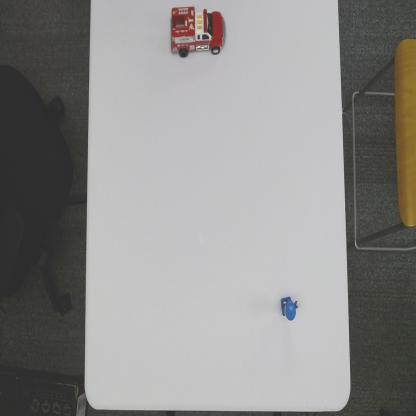Firetruck: (168, 4, 226, 59)
